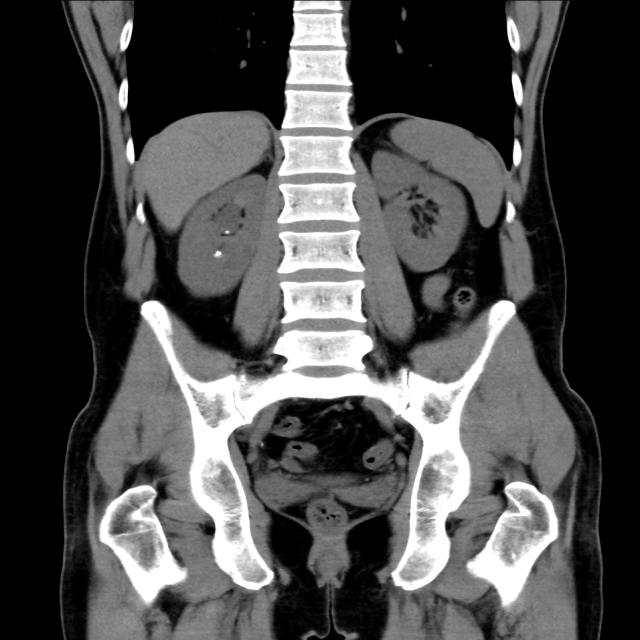kidneystone: (213, 250, 222, 258)
